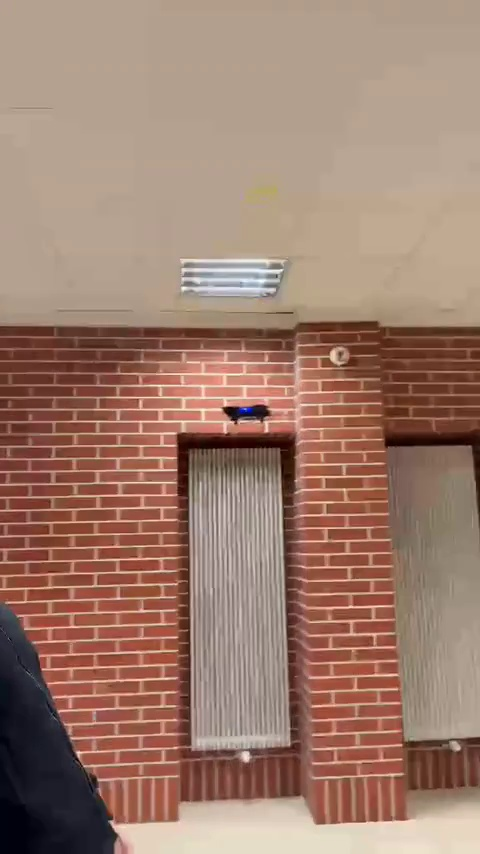drone: (218, 405, 271, 423)
